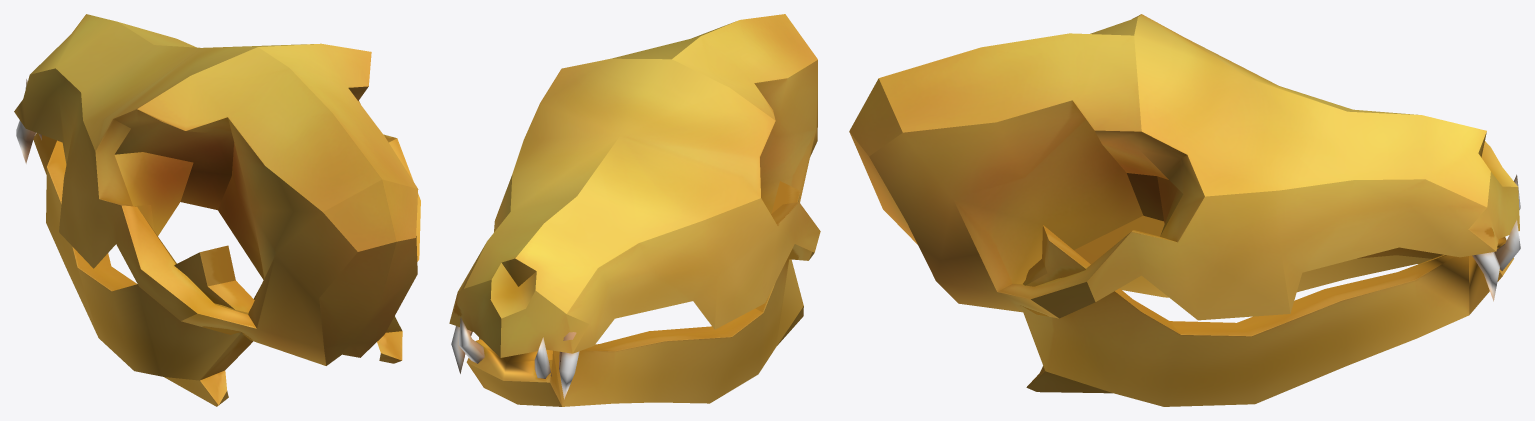
File: Animal_Skull_1.fbx
3 views of the same model, side by side, from view 1: azimuth 30°, elevation 25°; view 2: azimuth 150°, elevation 25°; view 3: azimuth 270°, elevation 25° (orthographic). The views are drawn at different scales.
Visible parts, largest first — view 1: Animal_Skull_1; view 2: Animal_Skull_1; view 3: Animal_Skull_1.
Part boxes in pixels (bbox=[...]): Animal_Skull_1: bbox=[14, 14, 420, 406]; Animal_Skull_1: bbox=[449, 14, 820, 406]; Animal_Skull_1: bbox=[849, 14, 1520, 406].
Bounding box in the file's own units: 1.05 × 1.12 × 2.13.
